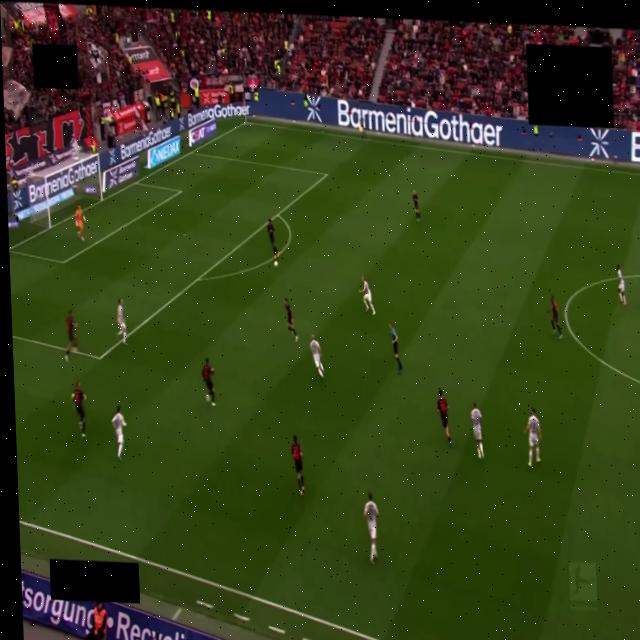ball: (274, 261, 277, 267)
player: (364, 492, 378, 564), (524, 408, 540, 466), (111, 406, 126, 461), (437, 390, 452, 445), (291, 436, 304, 496), (72, 382, 85, 437), (471, 403, 483, 459), (310, 334, 324, 379), (202, 359, 215, 407), (65, 311, 77, 361), (285, 299, 298, 342), (360, 278, 375, 315), (267, 219, 279, 259), (117, 299, 127, 345), (551, 296, 562, 337), (75, 205, 85, 241), (617, 266, 626, 305), (413, 190, 420, 221)
referee: (389, 323, 402, 374)
